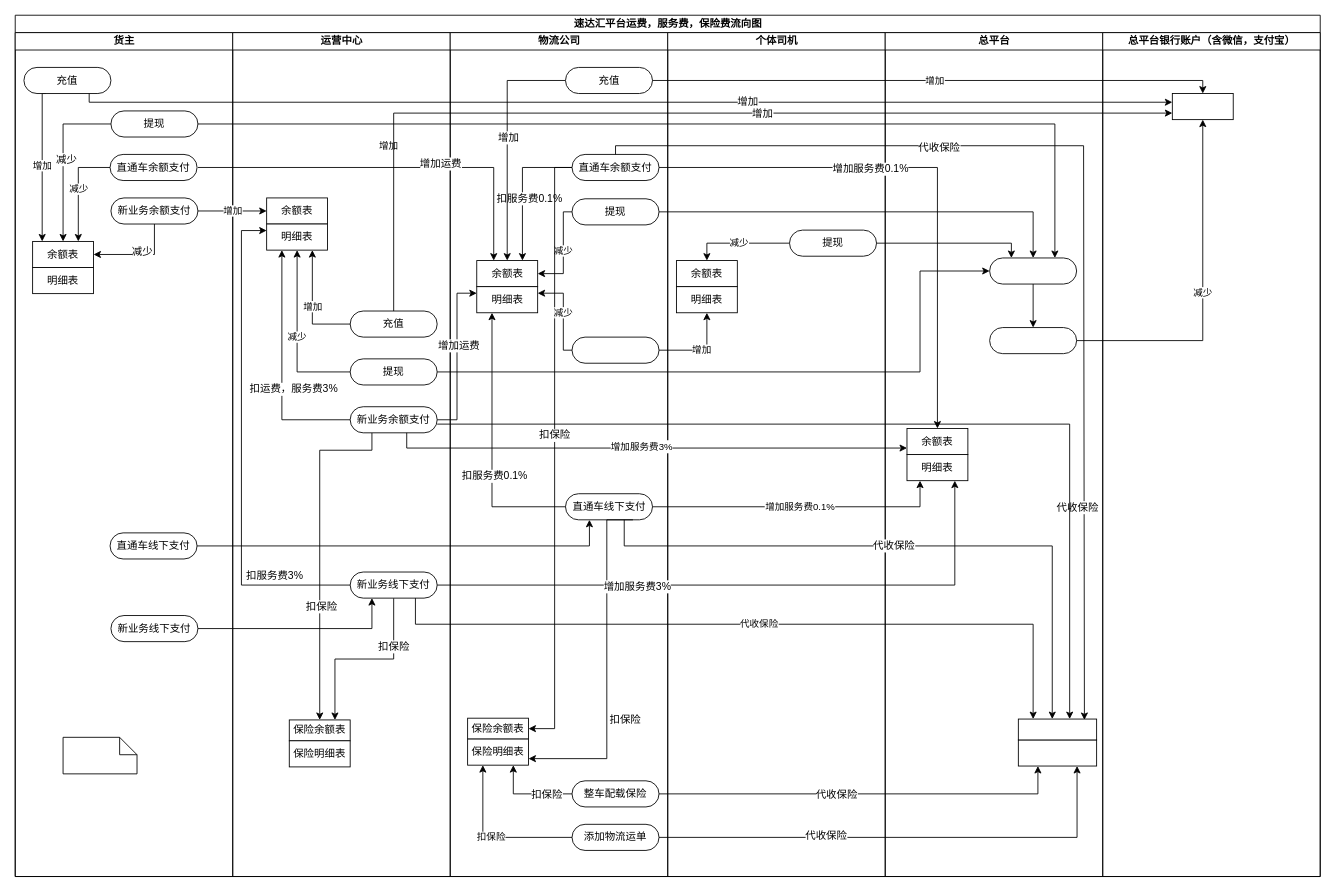
Some shapes in this 1335 by 892 pixel diagram are drawn without their labels. The centre of each missing label's shape, as x and y in pixels:
代收保险余额: point (1057, 729)
代收保险明细: point (1057, 752)
司机结算: point (615, 349)
提现复核: point (1033, 340)
提现审核: point (1033, 270)
说明: point (99, 755)
银行余额: point (1202, 106)
